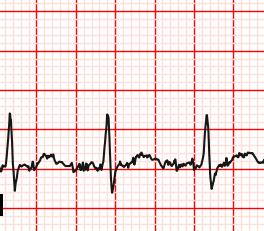ST Depression: (98, 155, 120, 196), (197, 155, 219, 192)
